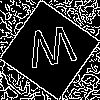W: (25, 25, 80, 78)
